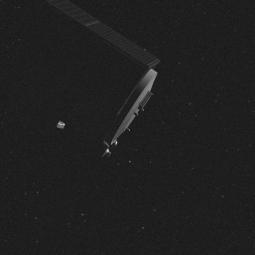cheops: (23, 25, 164, 157)
